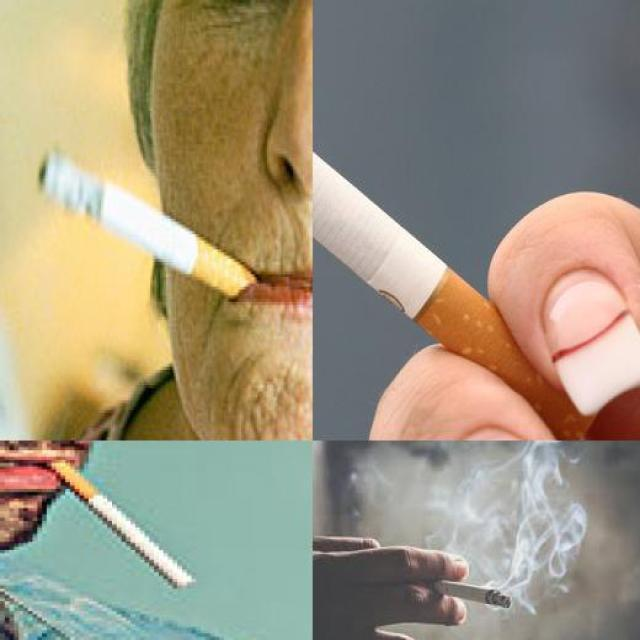smoking: (312, 0, 600, 439), (34, 147, 261, 302), (46, 456, 196, 586), (412, 578, 514, 609)
